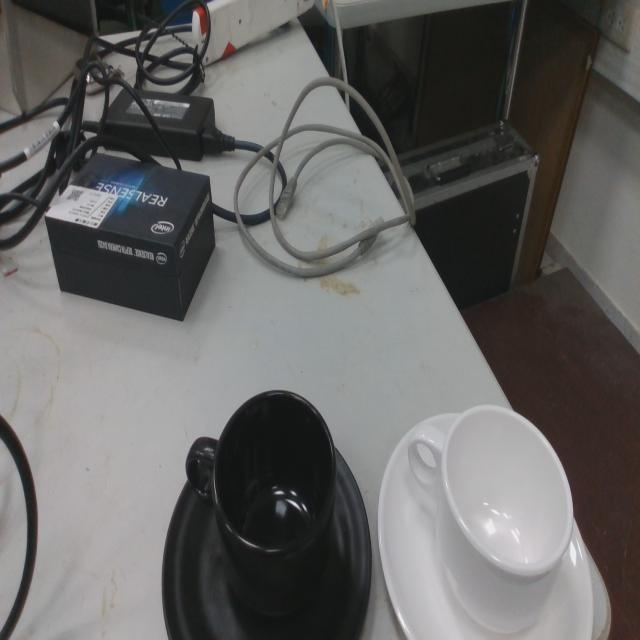black: (158, 384, 375, 640)
white: (374, 398, 599, 640)
